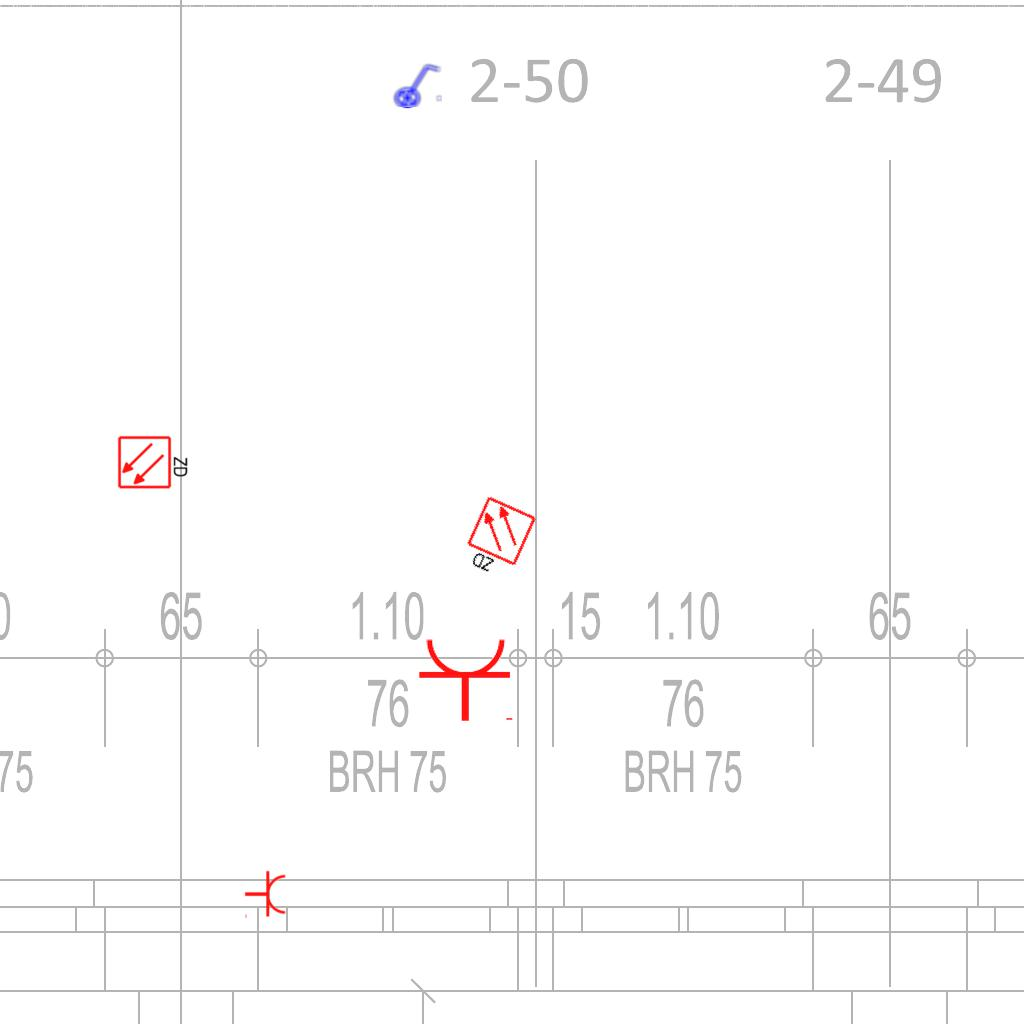Ausschalter_beleuchtet: (388, 61, 444, 109)
Schukosteckdose_einfach: (417, 636, 517, 723), (244, 870, 287, 920)
ZD_Melder_in_Zwischendecke_mit_Revisionsoeffnung_mind_40_x_40_cm: (457, 494, 540, 586), (117, 433, 191, 490)
